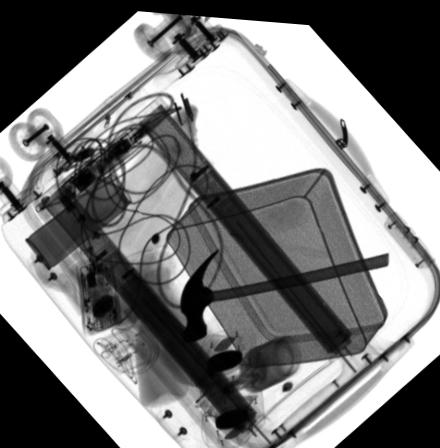Hammer: (179, 242, 389, 339)
